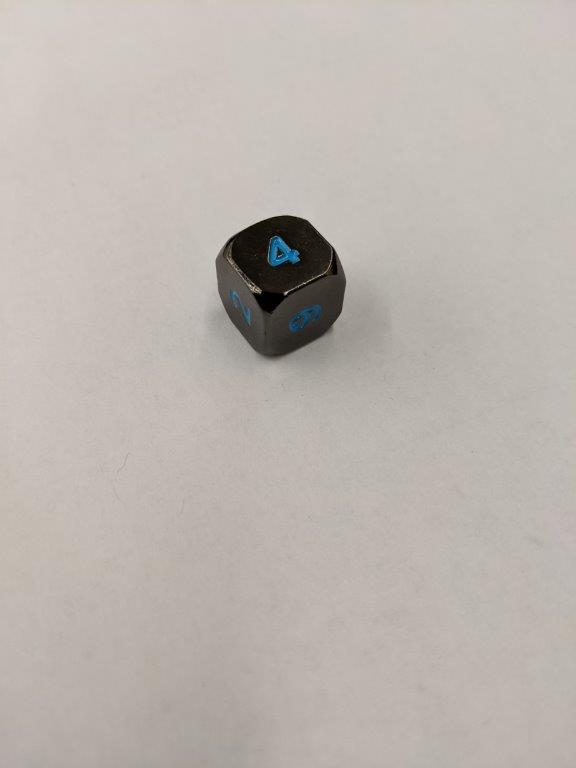d6-4: (217, 213, 348, 356)
